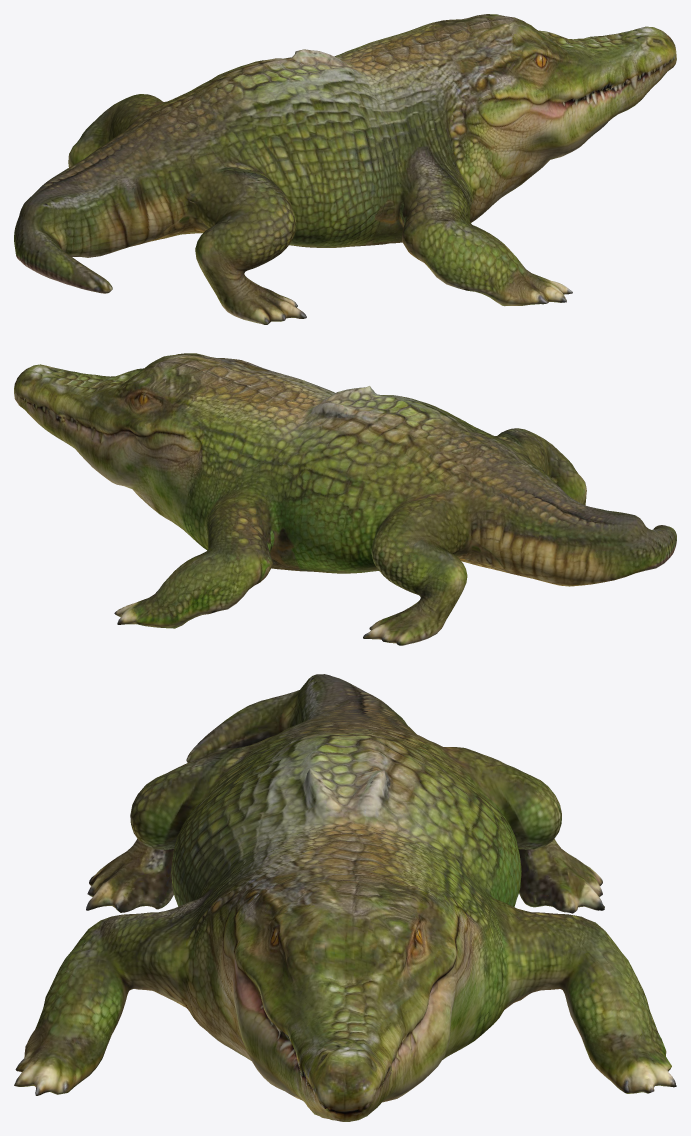
File: 06 Burkesuchus 3D.glb
3 views of the same model, one above another, from view 1: azimuth 30°, elevation 25°; view 2: azimuth 150°, elevation 25°; view 3: azimuth 270°, elevation 25° (orthographic). The views are drawn at different scales.
Parts seen in each view (by area): view 1: Mesh0; view 2: Mesh0; view 3: Mesh0.
Part boxes in pixels (x1=…): Mesh0: x1=14, y1=14, x2=676, y2=324; Mesh0: x1=14, y1=353, x2=676, y2=645; Mesh0: x1=14, y1=674, x2=676, y2=1121.
Size of the model in its own units: 16.52 by 4.44 by 10.88.
1 material, 1 textured.
